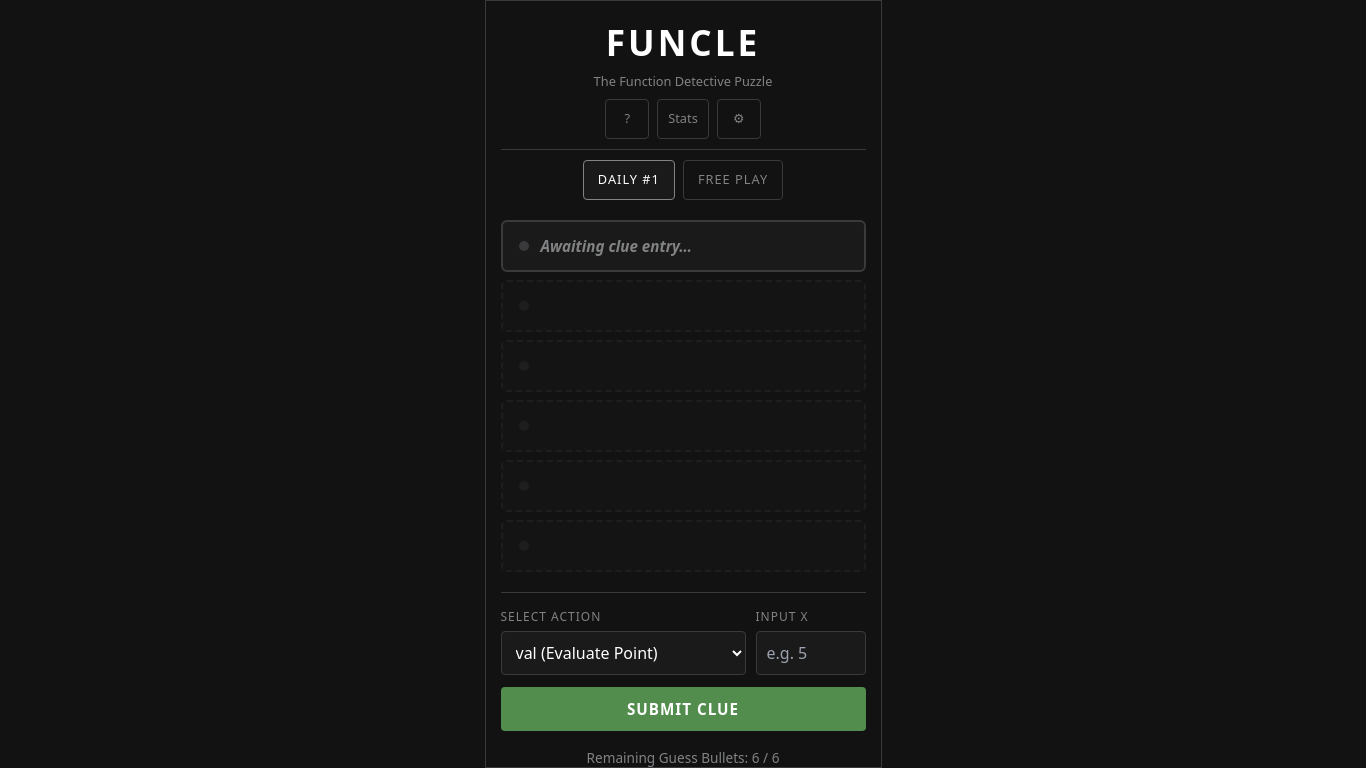
Scenario: GameView (wired to the store) › opens the Settings modal from the header
Click the button named "Settings": (739, 119) [717, 99, 761, 139]
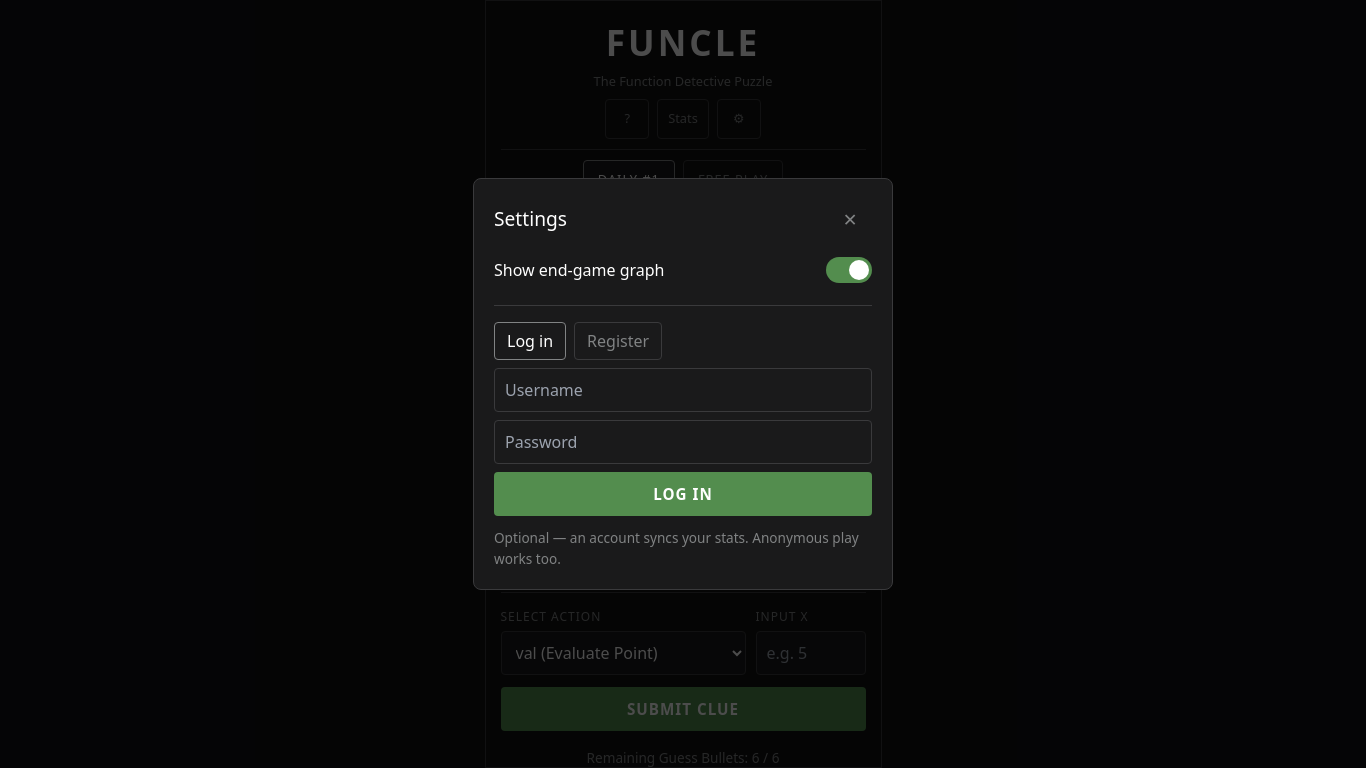
Expected: the element with class "setting-row" is shown, [494, 251, 872, 289]
